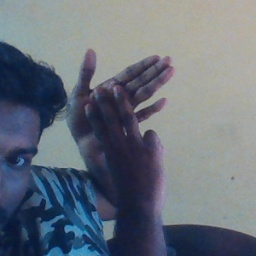M: (65, 45, 182, 186)
